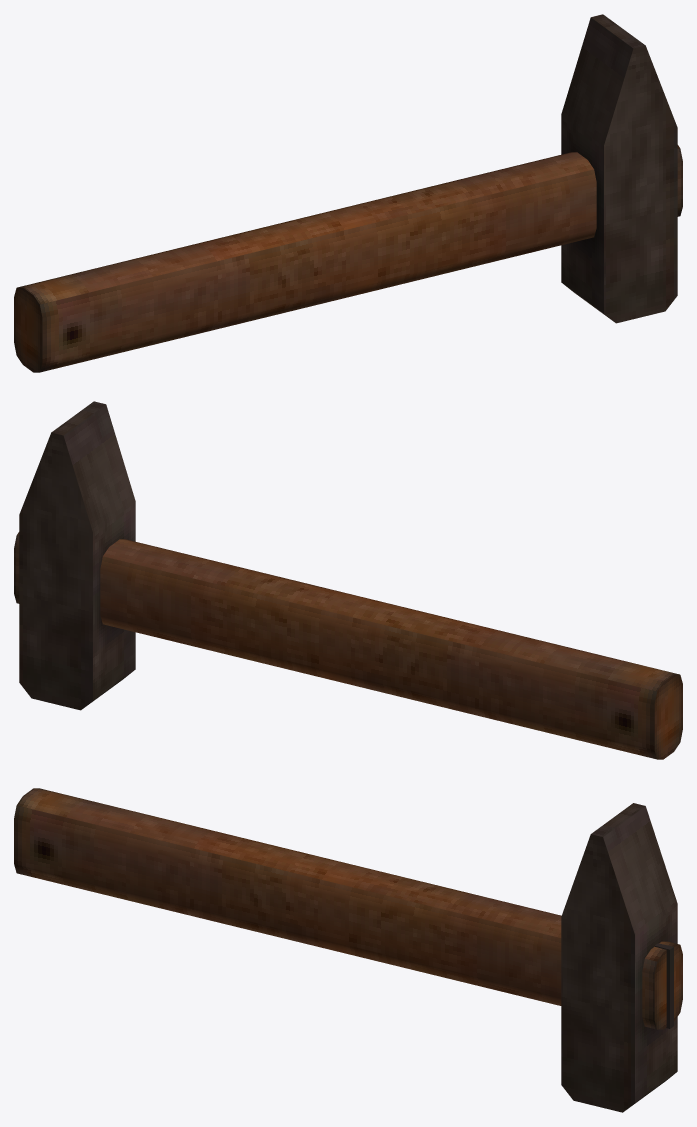
Rendered from shop-item-1031.glb.
3 renders of one model, top to bottom at view 1: azimuth 30°, elevation 25°; view 2: azimuth 150°, elevation 25°; view 3: azimuth 330°, elevation 25°, orthographic.
Visible parts, largest first — view 1: hammer_mx_2; view 2: hammer_mx_2; view 3: hammer_mx_2.
Boxes of the visible parts, x1,y1,x2,y2 form: hammer_mx_2: (14, 14, 682, 372); hammer_mx_2: (14, 401, 682, 759); hammer_mx_2: (14, 788, 682, 1112).
Bounding box in the file's own units: 0.5227 × 0.21 × 0.06.
1 material, 1 textured.
